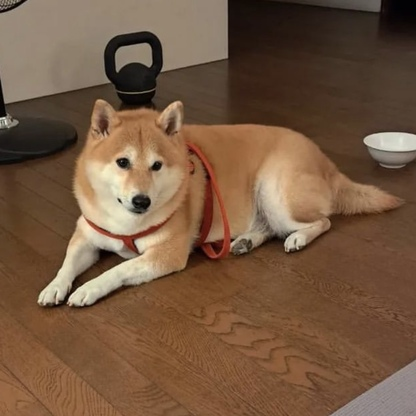akita: (28, 91, 416, 312)
